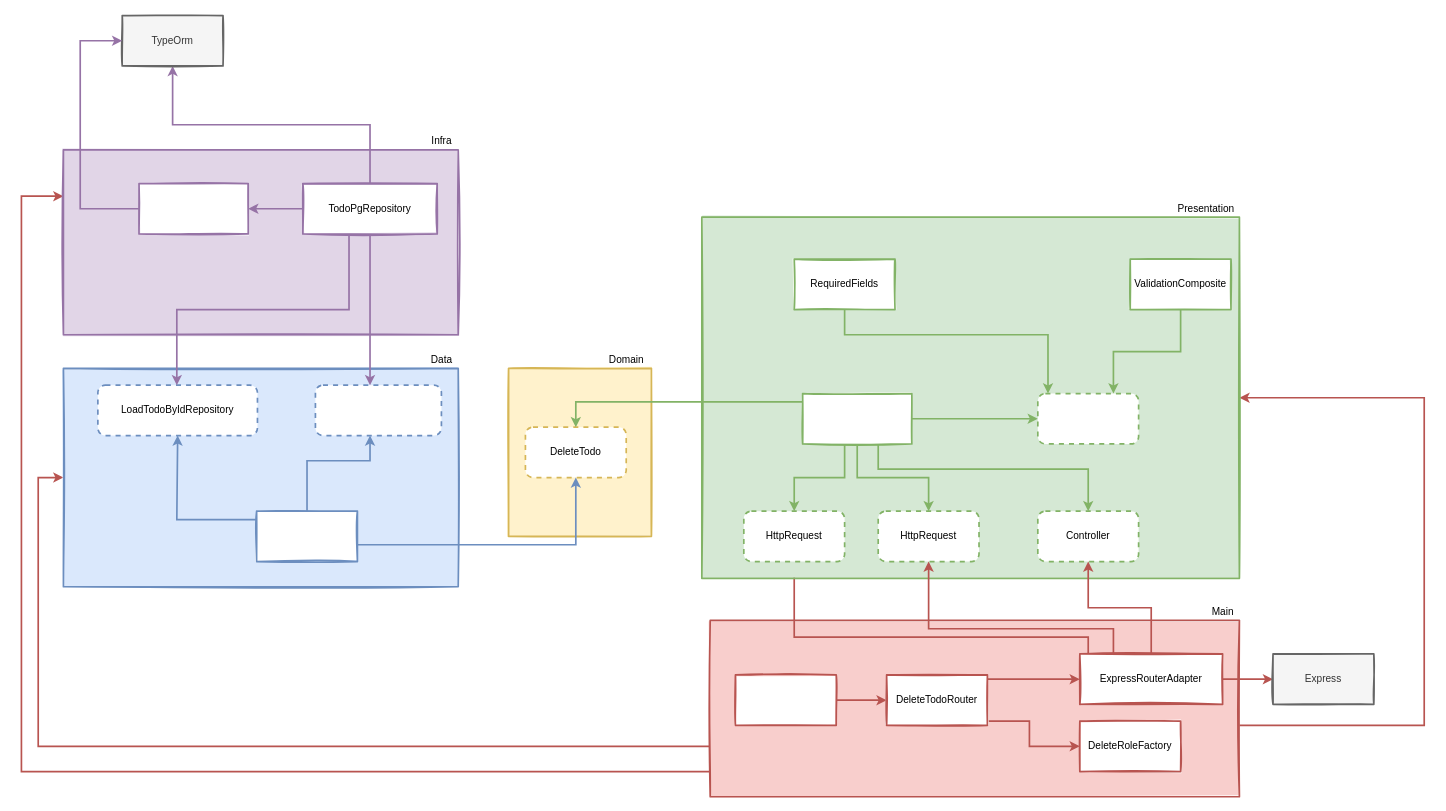
The diagram is 1446 pixels wide and 811 high, and some of its shapes have lost their labels. Here are the shapes that lost their labels. From the top down, the centre of each, then its label:
At point (193, 208): "TodoEntity".
At point (378, 410): "DeleteTodoRepository".
At point (856, 418): "DeleteTodoController".
At point (1088, 418): "Validation".
At point (306, 536): "DeleteTodoService".
At point (785, 700): "App".
